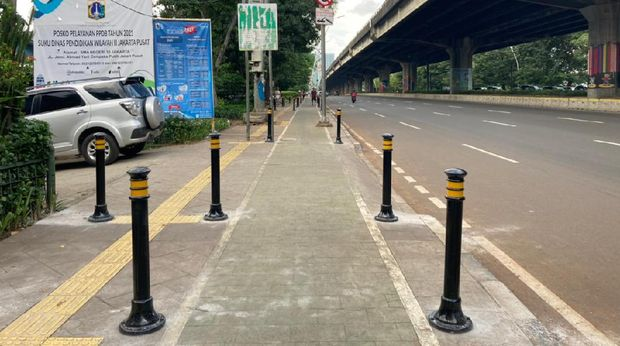bollard: (118, 163, 169, 338), (426, 167, 475, 334), (369, 130, 406, 226), (85, 131, 116, 224), (201, 133, 230, 224), (329, 109, 349, 147), (263, 107, 280, 143)
